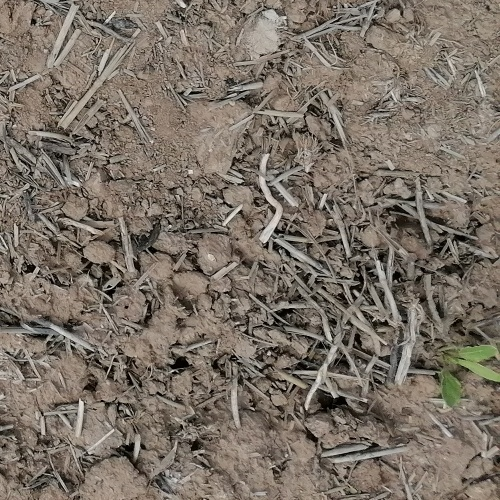beet: (436, 341, 500, 412)
